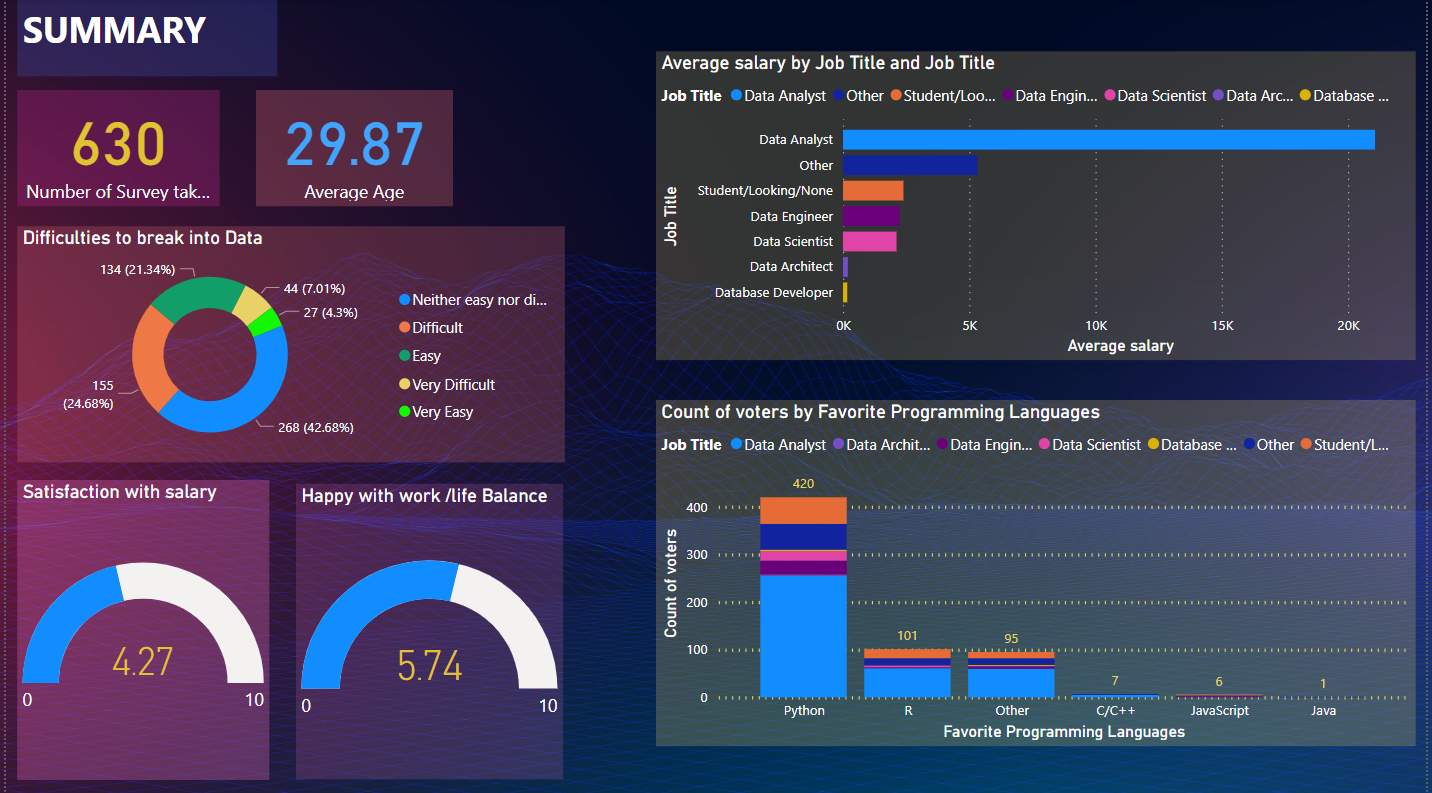

Layout of this report page (visuals, bound fields, positions):
{"tool":"powerbi","page":{"name":"Page 1","canvas":[1280,720],"ordinal":0},"visuals":[{"type":"textbox","box":[9.8,0,234.7,68.5],"z":0},{"type":"card","fields":{"Values":["Count(Data Professional Survey.Unique ID)"]},"box":[9.8,80.7,182.1,105.1],"z":1000},{"type":"card","fields":{"Values":["Avg(Data Professional Survey.Q10 - Current Age)"]},"box":[224.9,80.7,177.2,105.1],"z":3000},{"type":"barChart","fields":{"Category":["Data Professional Survey.Q1 - Which Title Best Fits your Current Role?.1"],"Y":["Sum(Data Professional Survey.Average salary)"],"Series":["Data Professional Survey.Q1 - Which Title Best Fits your Current Role?.1"]},"box":[585.5,46.5,684.6,278.7],"z":4000},{"type":"columnChart","title":"Count of voters by Favorite Programming Languages ","fields":{"Category":["Data Professional Survey.Q5 - Favorite Programming Language.1"],"Y":["CountNonNull(Data Professional Survey.Unique ID)"],"Series":["Data Professional Survey.Q1 - Which Title Best Fits your Current Role?.1"]},"box":[585.5,360.6,684.6,311.7],"z":5000},{"type":"gauge","title":"Happy with work /life Balance","fields":{"Y":["Avg(Data Professional Survey.Q6 - How Happy are you in your Current Position with the following? (Work/Life Balance))"],"MinValue":["Min(Data Professional Survey.Q6 - How Happy are you in your Current Position with the following? (Work/Life Balance))1"],"MaxValue":["Max(Data Professional Survey.Q6 - How Happy are you in your Current Position with the following? (Work/Life Balance))2"]},"box":[261.6,436.4,240.8,266.5],"z":7000},{"type":"gauge","title":"Satisfaction with salary","fields":{"Y":["Avg(Data Professional Survey.Q6 - How Happy are you in your Current Position with the following? (Salary))"],"MinValue":["Min(Data Professional Survey.Q6 - How Happy are you in your Current Position with the following? (Salary))"],"MaxValue":["Max(Data Professional Survey.Q6 - How Happy are you in your Current Position with the following? (Salary))1"]},"box":[9.8,432.7,227.4,270.2],"z":8000},{"type":"donutChart","title":"Difficulties to break into Data","fields":{"Y":["CountNonNull(Data Professional Survey.Average salary)"],"Category":["Data Professional Survey.Q7 - How difficult was it for you to break into Data?"]},"box":[9.8,204.1,493.9,212.7],"z":9000}]}

Visuals, with their boxes in screenshot pixels (x1, y1, x2, y2), scaled from the page's 1280x720 canvas onto the 1432x793 screenshot:
textbox: (left=11, top=0, right=274, bottom=75)
card - Count(Data Professional Survey.Unique ID): (left=11, top=89, right=215, bottom=205)
card - Avg(Data Professional Survey.Q10 - Current Age): (left=252, top=89, right=450, bottom=205)
barChart - Data Professional Survey.Q1 - Which Title Best Fits your Current Role?.1 x Sum(Data Professional Survey.Average salary): (left=655, top=51, right=1421, bottom=358)
"Count of voters by Favorite Programming Languages " columnChart: (left=655, top=397, right=1421, bottom=740)
"Happy with work /life Balance" gauge: (left=293, top=481, right=562, bottom=774)
"Satisfaction with salary" gauge: (left=11, top=477, right=265, bottom=774)
"Difficulties to break into Data" donutChart: (left=11, top=225, right=564, bottom=459)
